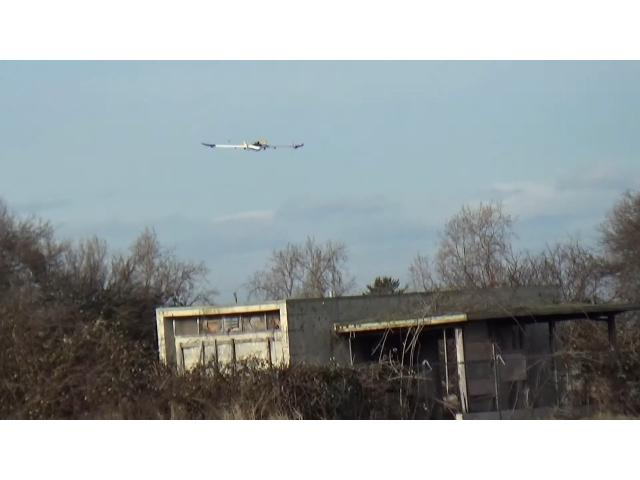Anti-Drone: (201, 140, 305, 151)
